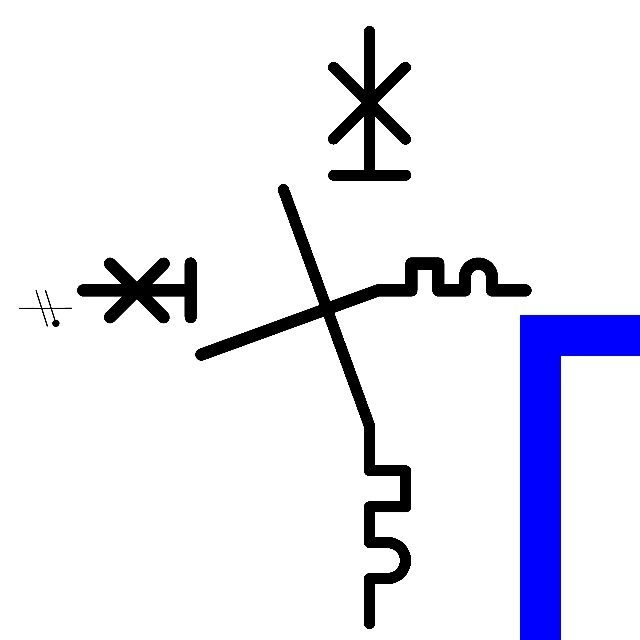interruptor_termomagnetico: (268, 16, 421, 639), (71, 252, 536, 366)
